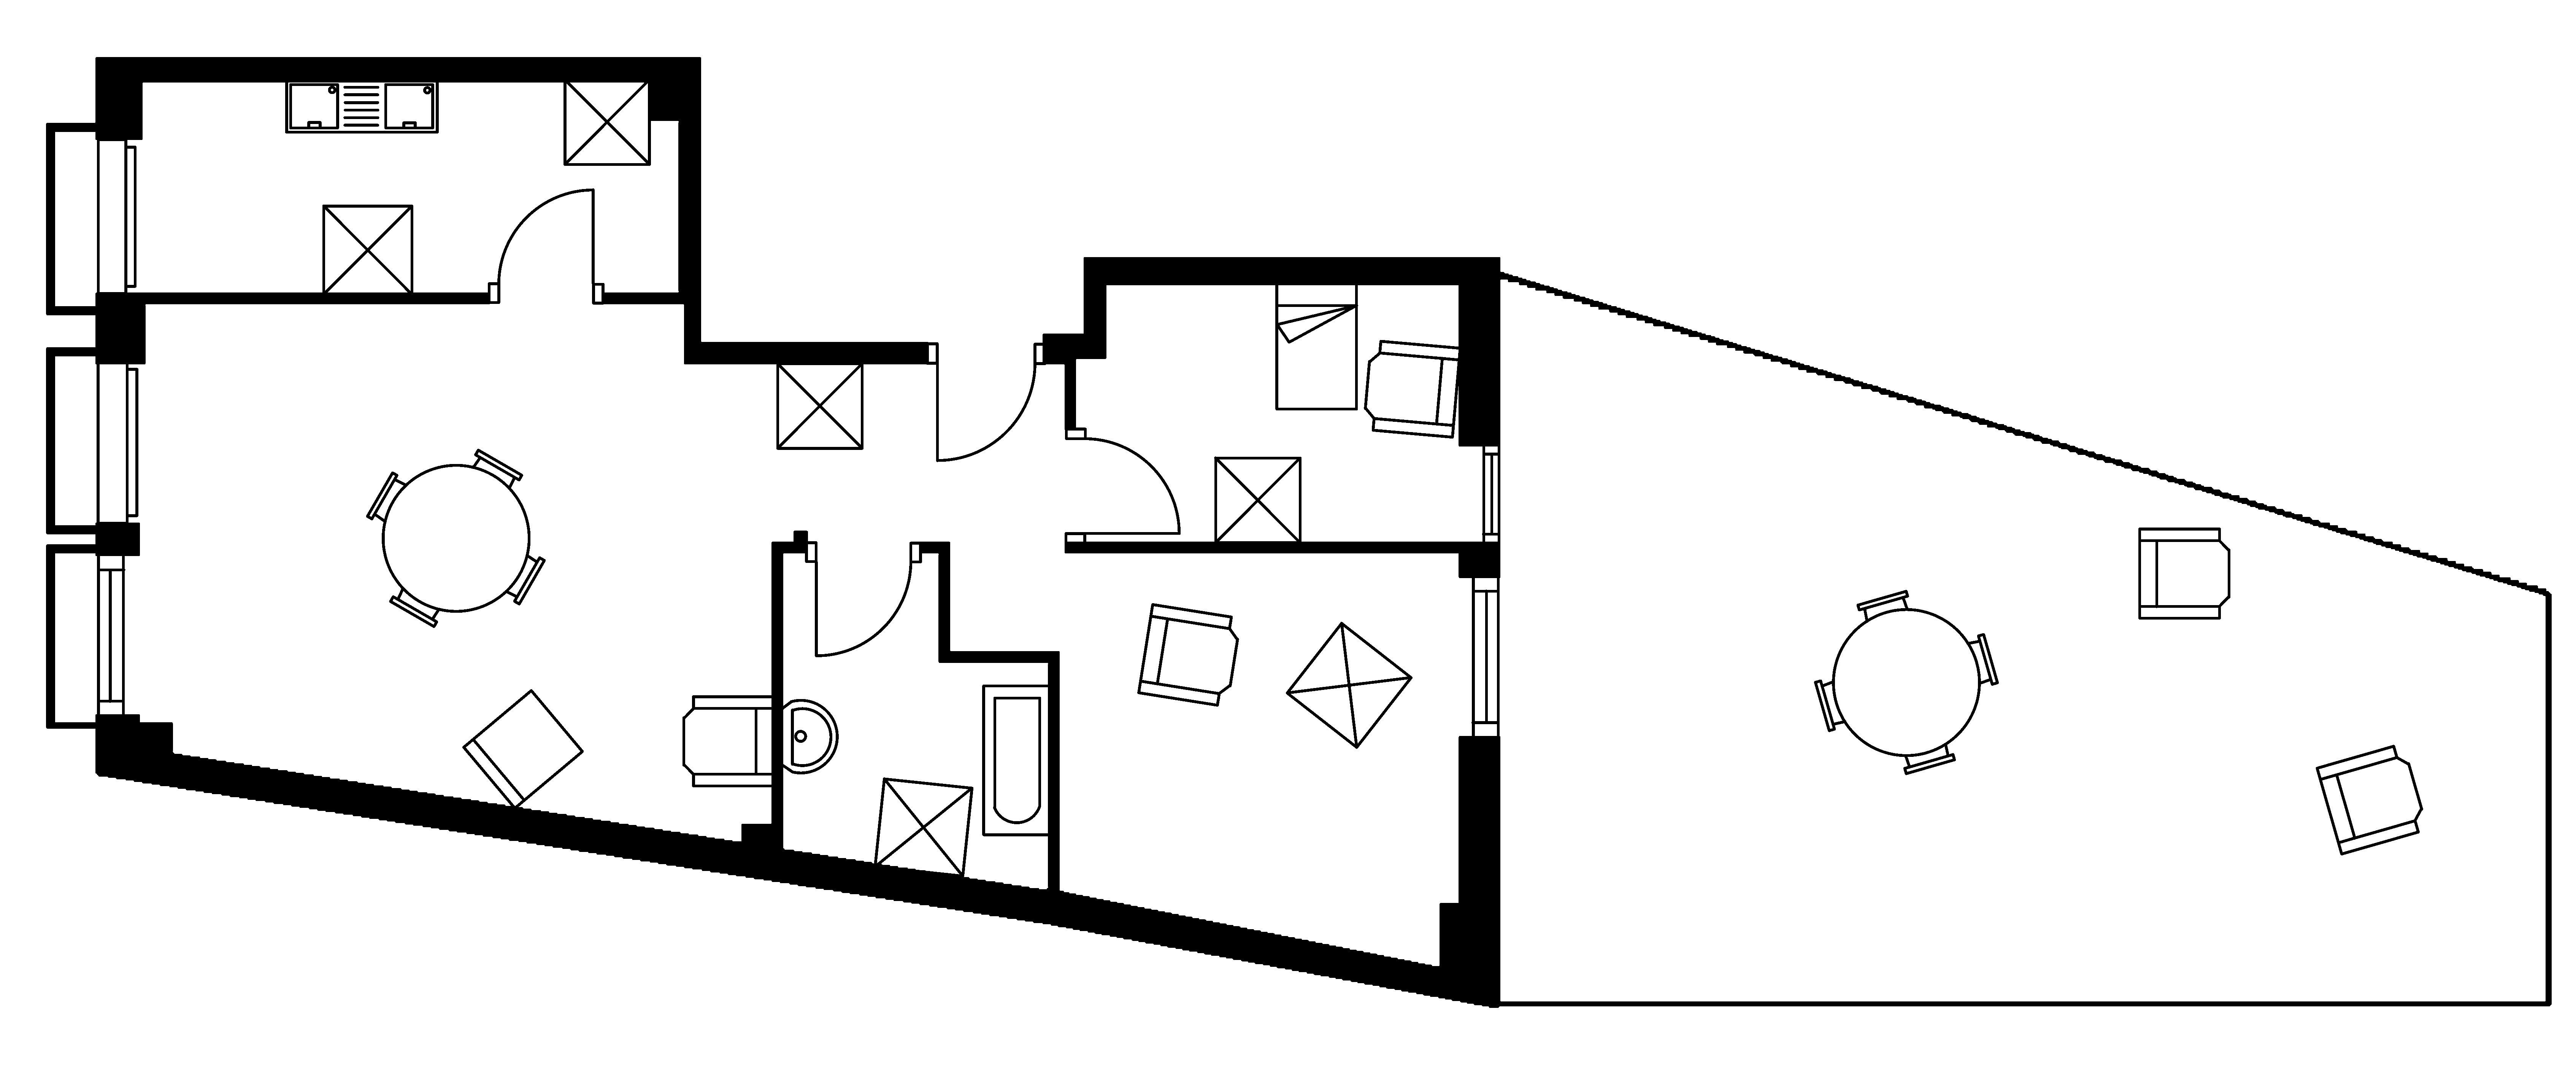armchair: (2315, 743, 2423, 855), (1137, 602, 1239, 707), (1364, 339, 1462, 439), (2137, 526, 2231, 620), (682, 694, 774, 788)
bed: (1275, 281, 1359, 411)
coffee_table: (1285, 622, 1413, 748), (872, 776, 974, 878), (322, 204, 414, 296), (562, 77, 651, 166), (775, 362, 864, 451), (1214, 456, 1301, 544)
round_table: (1814, 589, 1999, 775), (365, 447, 545, 628)
small_sink: (780, 699, 838, 775)
small_sofa: (462, 689, 583, 809)
tub: (981, 684, 1051, 837)
twin_sink: (284, 77, 439, 133)
